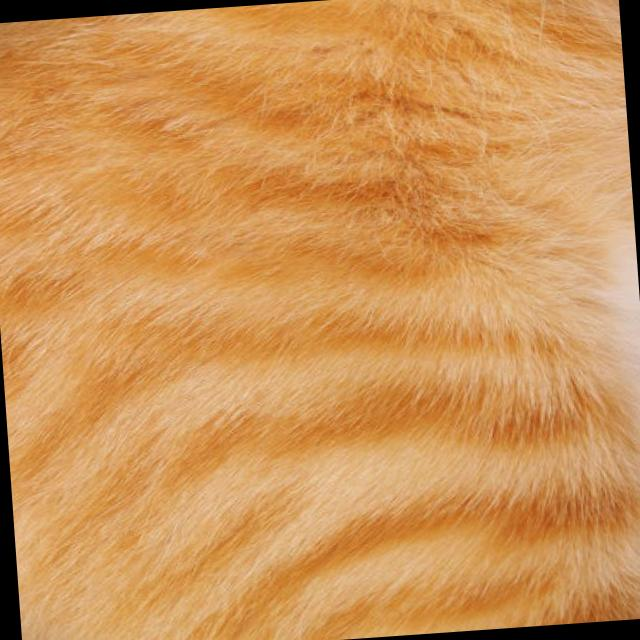Healthy skin: (0, 156, 333, 484), (333, 151, 620, 442), (0, 0, 472, 172), (240, 464, 574, 634), (18, 503, 224, 640)
